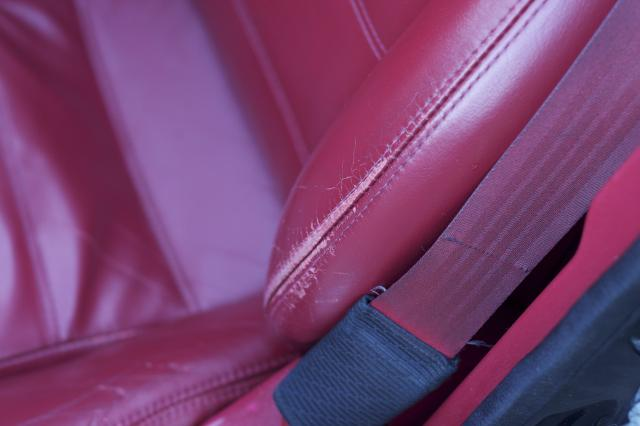Seatbelt: (201, 0, 639, 426)
